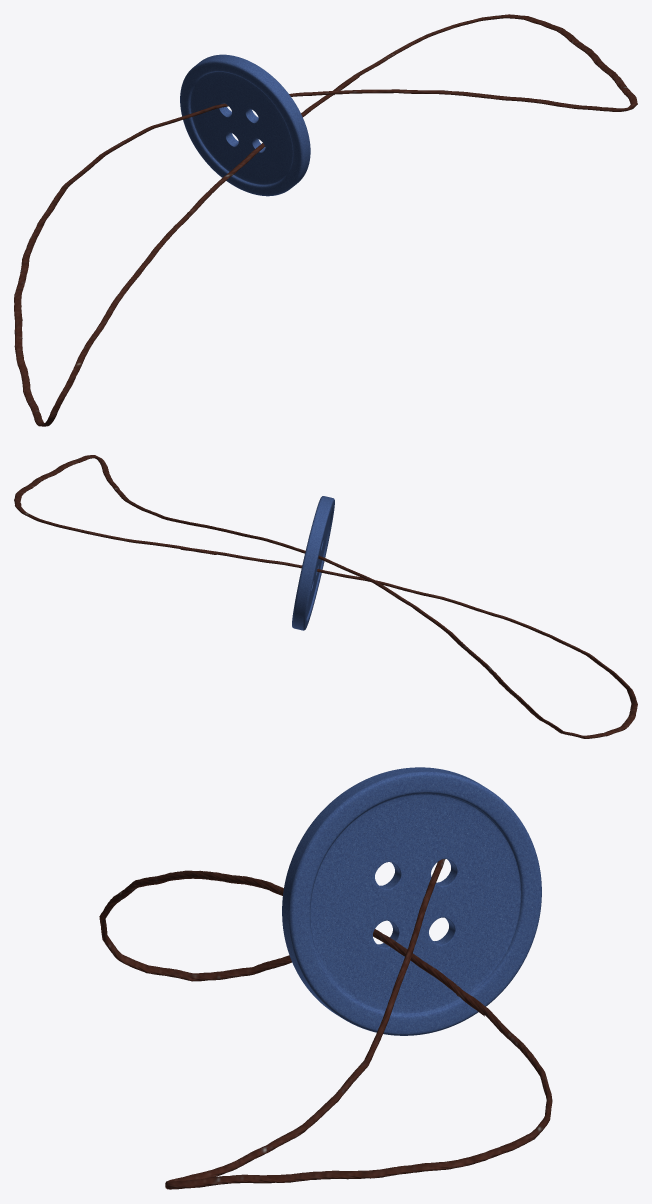
File: runrun.glb
3 views of the same model, one above another, from view 1: azimuth 30°, elevation 25°; view 2: azimuth 150°, elevation 25°; view 3: azimuth 270°, elevation 25° (orthographic). The views are drawn at different scales.
Visible parts, largest first — view 1: Cube, Circle.002; view 2: Circle.002, Cube; view 3: Cube, Circle.002.
Boxes of the visible parts, box(x1,y1,x2,y2) form: Cube: box(180, 54, 310, 196); Circle.002: box(14, 14, 637, 426); Circle.002: box(14, 455, 637, 738); Cube: box(292, 496, 334, 630); Cube: box(282, 767, 541, 1035); Circle.002: box(99, 859, 552, 1189).
Bounding box in the file's own units: 18.54 × 7.1 × 6.74.
Materials: 2 (2 with a texture image).
